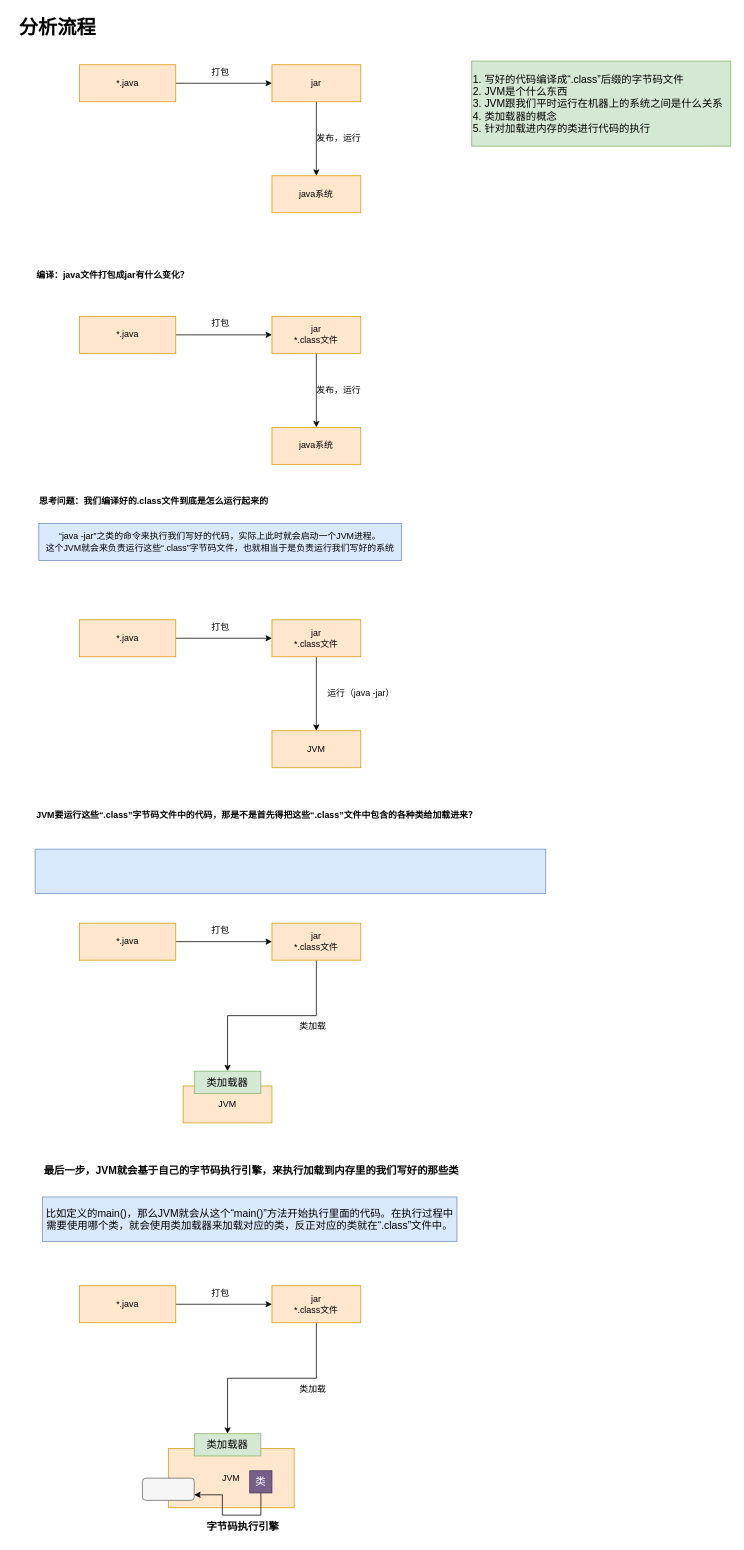
Some shapes in this 744 by 1550 pixel diagram are drawn without their labels. Each missing label, with the centre of its shape:
"1.在此步骤中提出“类加载器”的概念 2.此时会采用类加载器把编译好的那些“.class”字节码文件给加载到JVM中，然后供后续代码运行来使用。" goes at (290,871).
"执行代码" goes at (168,1488).
